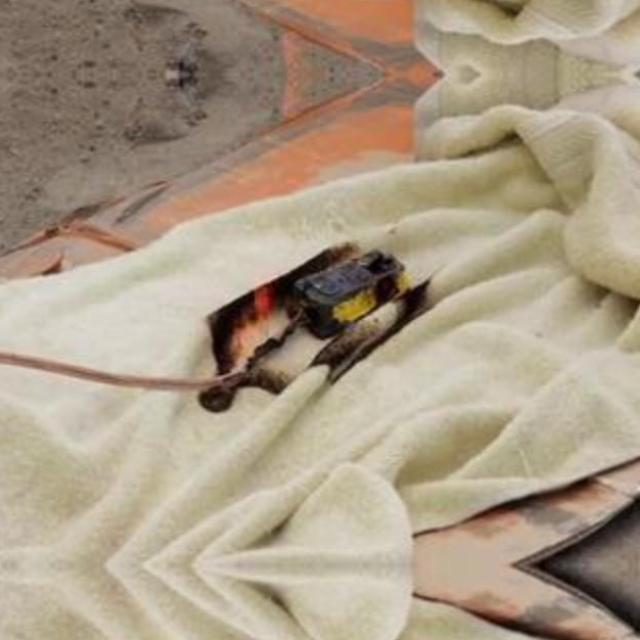smoke: (233, 258, 311, 372)
